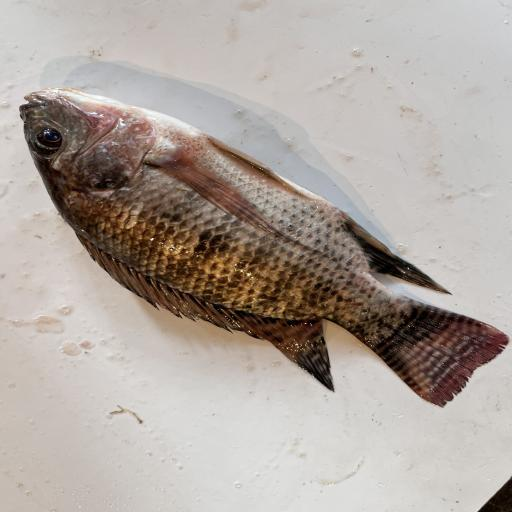Tilapia: (19, 87, 510, 408)
